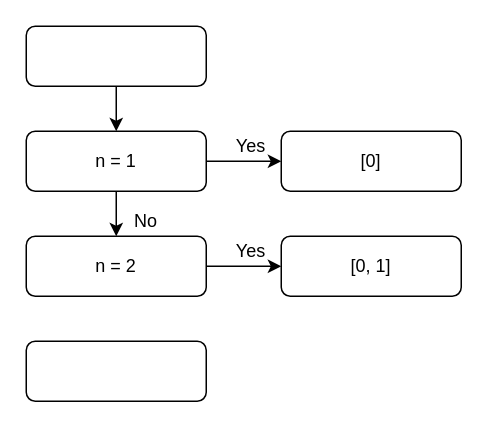
This 488x428 diagram has some shape labels left out. Here are the shapes that lost their labels. From the top down, the centre of each, then its label:
At (115,55): "START".
At (115,370): "n > 2".
